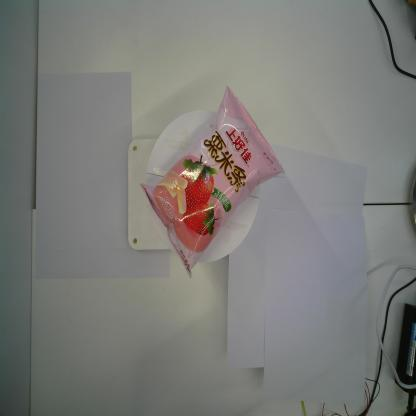Puffed Food: (140, 86, 286, 280)
